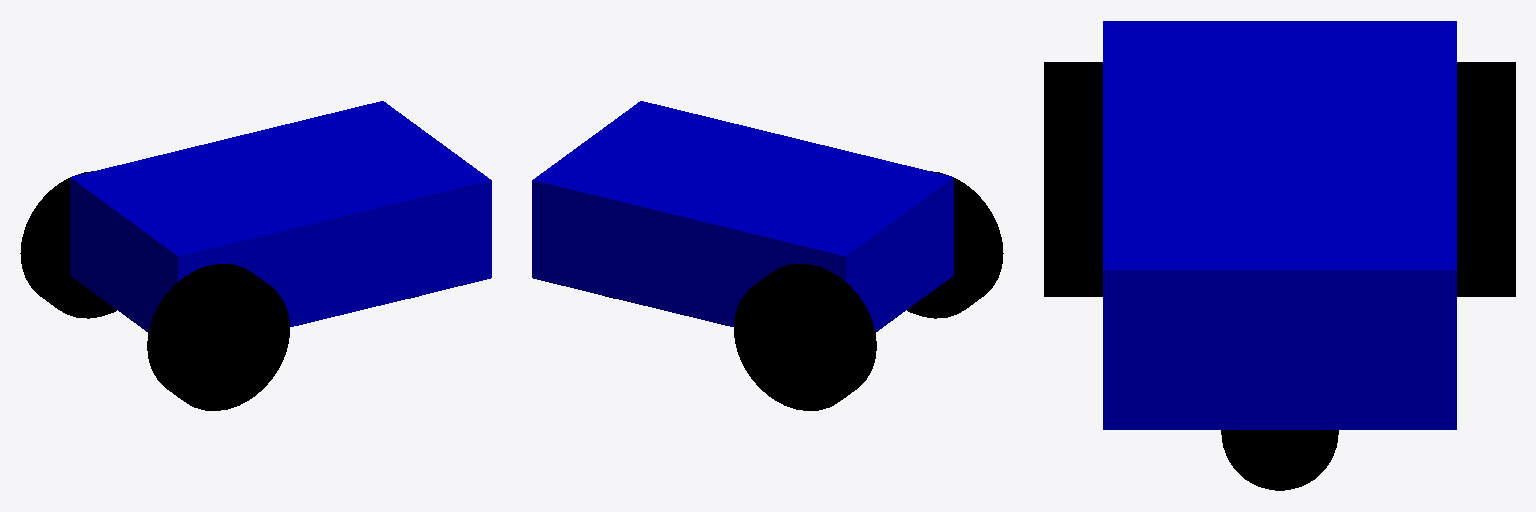
robot.urdf — diffbot:
<?xml version="1.0"?>

<robot name="diffbot" xmlns:xacro="http://www.ros.org/wiki/xacro">

    <!-- Materials -->
    <material name="blue">
        <color rgba="0 0 0.8 1"/>
    </material>

    <material name="black">
        <color rgba="0 0 0 1"/>
    </material>

    <material name="white">
        <color rgba="1 1 1 1"/>
    </material>

    <material name="red">
        <color rgba="1 0 0 1"/>
    </material>

    <material name="green">
        <color rgba="0 1 0 1"/>
    </material>

    <!-- Base Link -->
    <link name="base_link">
        <visual>
            <geometry>
                <box size="0.5 0.3 0.15"/>
            </geometry>
            <material name="blue"/>
        </visual>
        <collision>
            <geometry>
                <box size="0.5 0.3 0.15"/>
            </geometry>
        </collision>
        <!-- <inertial>
            <mass value="5.0"/>
            <inertia ixx="0.1" ixy="0" ixz="0" iyy="0.1" iyz="0" izz="0.1"/>
        </inertial> -->
    </link>

    <!-- Left Wheel -->
    <link name="left_wheel">
        <visual>
            <geometry>
                <cylinder length="0.05" radius="0.1"/>
            </geometry>
            <material name="black"/>
        </visual>
        <collision>
            <geometry>
                <cylinder length="0.05" radius="0.1"/>
            </geometry>
        </collision>
        <inertial>
            <mass value="0.5"/>
            <inertia ixx="0.01" ixy="0" ixz="0" iyy="0.01" iyz="0" izz="0.01"/>
        </inertial>
    </link>

    <!-- Right Wheel -->
    <link name="right_wheel">
        <visual>
            <geometry>
                <cylinder length="0.05" radius="0.1"/>
            </geometry>
            <material name="black"/>
        </visual>
        <collision>
            <geometry>
                <cylinder length="0.05" radius="0.1"/>
            </geometry>
        </collision>
        <inertial>
            <mass value="0.5"/>
            <inertia ixx="0.01" ixy="0" ixz="0" iyy="0.01" iyz="0" izz="0.01"/>
        </inertial>
    </link>

    <!-- Caster Wheel -->
    <link name="caster_wheel">
        <visual>
            <geometry>
                <sphere radius="0.05"/>
            </geometry>
            <material name="black"/>
        </visual>
        <collision>
            <geometry>
                <sphere radius="0.05"/>
            </geometry>
        </collision>
        <inertial>
            <mass value="0.1"/>
            <inertia ixx="0.01" ixy="0" ixz="0" iyy="0.01" iyz="0" izz="0.01"/>
        </inertial>
    </link>

    <!-- Left Wheel Joint -->
    <joint name="left_wheel_joint" type="continuous">
        <parent link="base_link"/>
        <child link="left_wheel"/>
        <origin xyz="-0.2 0.175 -0.05" rpy="-1.5708 0 0"/>
        <axis xyz="0 0 1"/>
    </joint>

    <!-- Right Wheel Joint -->
    <joint name="right_wheel_joint" type="continuous">
        <parent link="base_link"/>
        <child link="right_wheel"/>
        <origin xyz="-0.2 -0.175 -0.05" rpy="-1.5708 0 0"/>
        <axis xyz="0 0 1"/>
    </joint>

    <!-- Caster Wheel Joint -->
    <joint name="caster_wheel_joint" type="fixed">
        <parent link="base_link"/>
        <child link="caster_wheel"/>
        <origin xyz="0.2 0 -0.1"/>
        <axis xyz="0 0 1"/>
    </joint>

    <!-- Gazebo Colors -->
    <gazebo reference="base_link">
        <material>Gazebo/Blue</material>
    </gazebo>

    <gazebo reference="left_wheel">
        <material>Gazebo/Black</material>
        <mu1 value="1.0"/>
        <mu2 value="1.0"/>
    </gazebo>

    <gazebo reference="right_wheel">
        <material>Gazebo/Black</material>
        <mu1 value="1.0"/>
        <mu2 value="1.0"/>
    </gazebo>

    <gazebo reference="caster_wheel">
        <material>Gazebo/Black</material>
        <mu1 value="0.1"/>
        <mu2 value="0.1"/>
    </gazebo>

    <!-- Gazebo plugin for differential drive -->
    <gazebo>
        <plugin filename="gz-sim-diff-drive-system" name="gz::sim::systems::DiffDrive">
            <odom_publisher_frequency>50</odom_publisher_frequency>
            <left_joint>left_wheel_joint</left_joint>
            <right_joint>right_wheel_joint</right_joint>
            <wheel_separation>0.35</wheel_separation>
            <wheel_diameter>0.2</wheel_diameter>
            <max_wheel_torque>20</max_wheel_torque>
            <max_linear_acceleration>1.0</max_linear_acceleration>
            <topic>cmd_vel</topic>
            <publish_odom>true</publish_odom>
            <publish_odom_tf>true</publish_odom_tf>
            <publish_wheel_tf>true</publish_wheel_tf>
            <odom_topic>odom</odom_topic>
            <frame_id>odom</frame_id>
            <child_frame_id>base_link</child_frame_id>
        </plugin>
 
        <plugin filename="gz-sim-joint-state-publisher-system" name="gz::sim::systems::JointStatePublisher">
            <update_rate>50</update_rate>
            <joint_name>left_wheel_joint</joint_name>
            <joint_name>right_wheel_joint</joint_name>
        </plugin>
  </gazebo>

</robot>

--- What the picture shows (computed from the rendered views, not written in the file) ---
3 views of the same robot in one strip: view 1: azimuth 30°, elevation 25°; view 2: azimuth 150°, elevation 25°; view 3: azimuth 270°, elevation 25° (orthographic).
Model diffbot with 4 links and 3 joints (2 continuous, 1 fixed), rooted at base_link, posed all joints at 0.
Links seen in each view (by area): view 1: base_link, right_wheel, left_wheel; view 2: base_link, left_wheel, right_wheel; view 3: base_link, left_wheel, right_wheel, caster_wheel.
Link boxes in pixels (bbox=[...]): base_link: bbox=[70, 101, 491, 331]; right_wheel: bbox=[147, 264, 289, 410]; left_wheel: bbox=[20, 171, 116, 318]; base_link: bbox=[532, 101, 953, 331]; left_wheel: bbox=[734, 264, 876, 410]; right_wheel: bbox=[907, 171, 1003, 318]; base_link: bbox=[1103, 21, 1456, 429]; left_wheel: bbox=[1457, 62, 1515, 296]; right_wheel: bbox=[1044, 62, 1102, 296]; caster_wheel: bbox=[1221, 430, 1338, 490].
Size in the robot's own frame: 0.55 by 0.4 by 0.225 metres.
Geometry: primitives only (box / cylinder / sphere), no mesh files.
